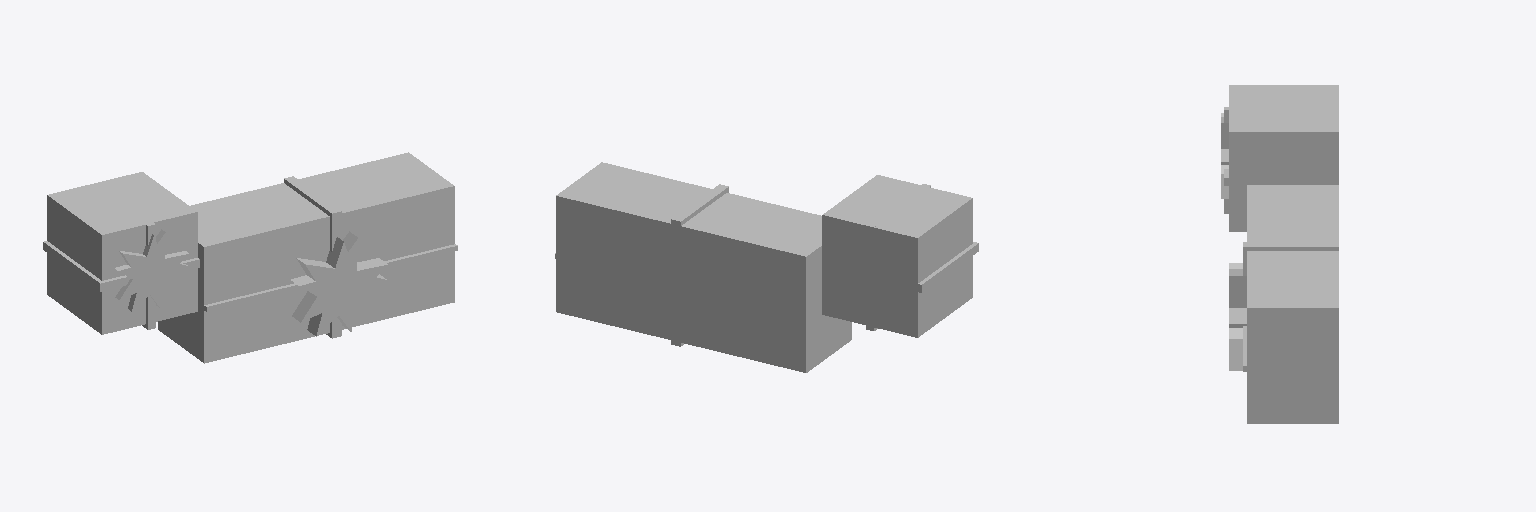
File: present3.obj
3 views of the same model, side by side, from view 1: azimuth 30°, elevation 25°; view 2: azimuth 150°, elevation 25°; view 3: azimuth 270°, elevation 25° (orthographic).
Visible parts, largest first — view 1: obj_0; view 2: obj_0; view 3: obj_0.
Part boxes in pixels (x1,y1,x2,y2): obj_0: (43,152,457,363); obj_0: (555,162,978,372); obj_0: (1221,85,1338,423).
Size of the model in its own units: 92.24 by 40 by 25.8.